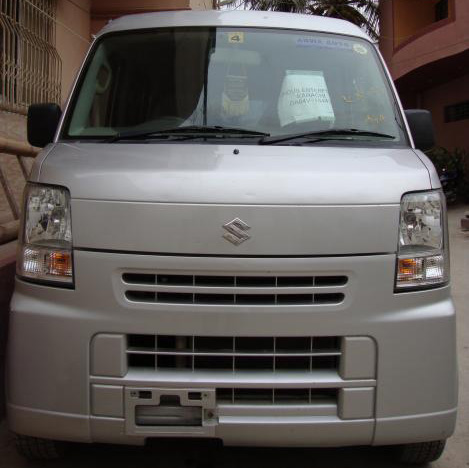van: (6, 10, 459, 465)
